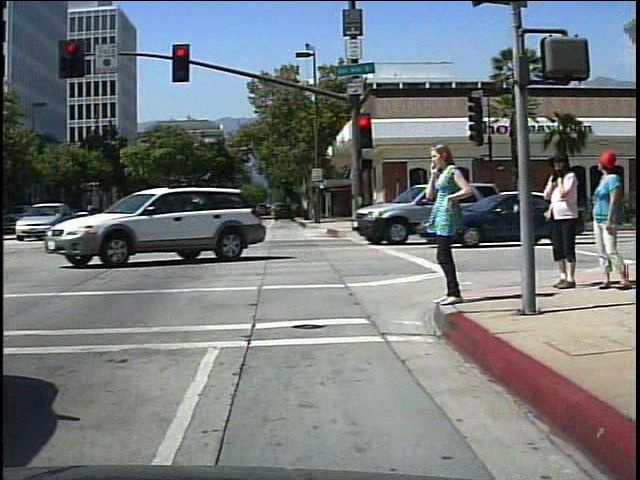person: (421, 137, 473, 308), (540, 147, 585, 294), (585, 146, 626, 294)
